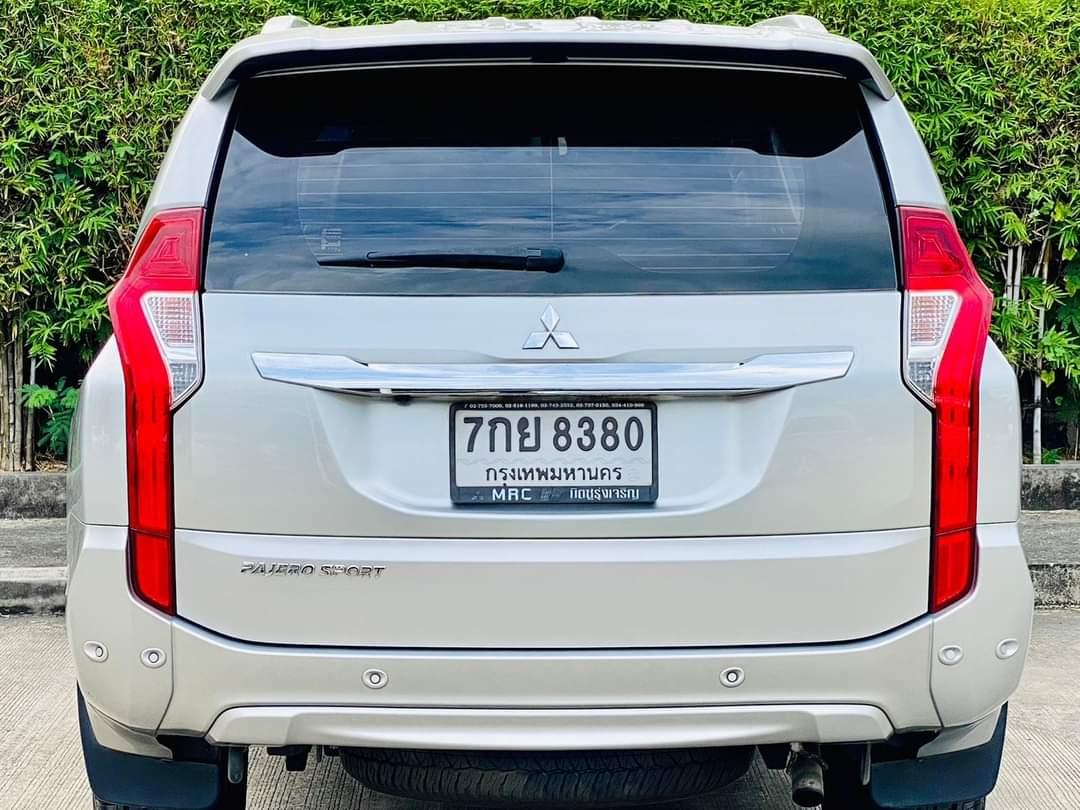license-plate: (444, 396, 661, 512)
